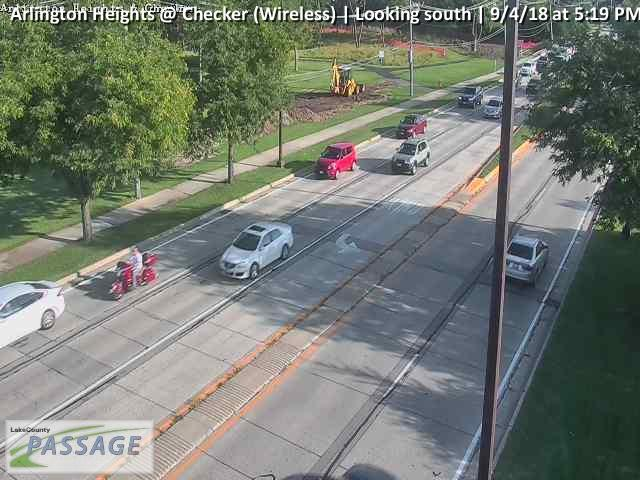Motorbike: (109, 243, 160, 298)
SUV: (456, 85, 483, 106)
Sedan: (1, 281, 67, 353), (219, 220, 294, 279), (504, 236, 550, 286), (315, 142, 357, 176), (393, 140, 432, 173), (397, 115, 428, 136), (483, 96, 502, 118), (523, 79, 540, 96), (520, 62, 534, 76), (536, 55, 548, 71)
